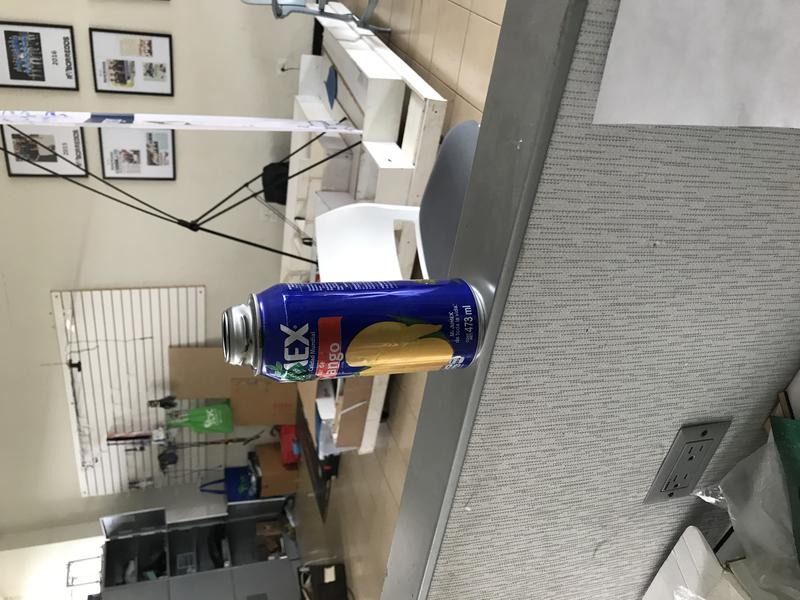jumex_botella: (222, 278, 489, 382)
